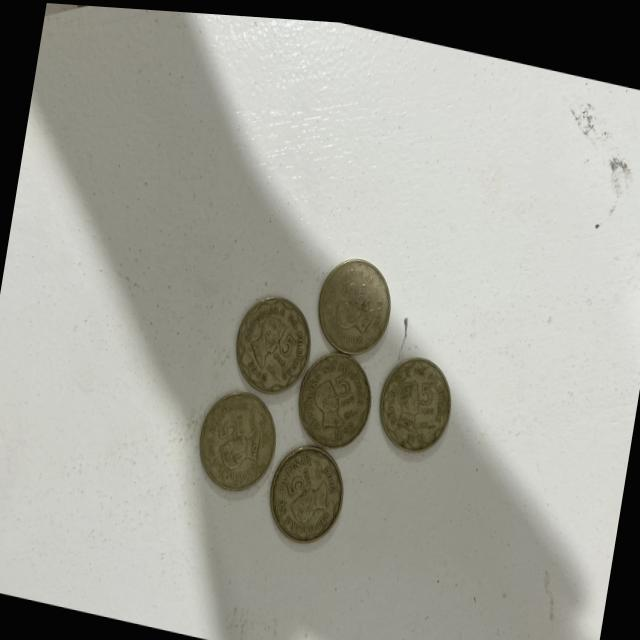5_Old_Front: (276, 451, 316, 501), (270, 317, 305, 371), (213, 400, 250, 449), (416, 365, 442, 418), (334, 363, 362, 411), (336, 266, 374, 299)
